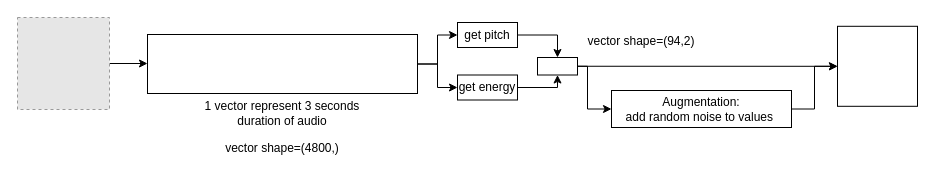
Some shapes in this 935 by 176 pixel diagram are drawn without their labels. Grey dashed boxes stand in for pictures. The shapes that lost their labels are listed below. From the top down, each one's centre as x and y in pixels, then its label:
At (282,64): "Total samples = 3 seconds * 16000 sample rate Total samples of 48000 per segment".
At (557,65): "stack".
At (877,65): "train contrastive-learning RNN 20 epochs".
